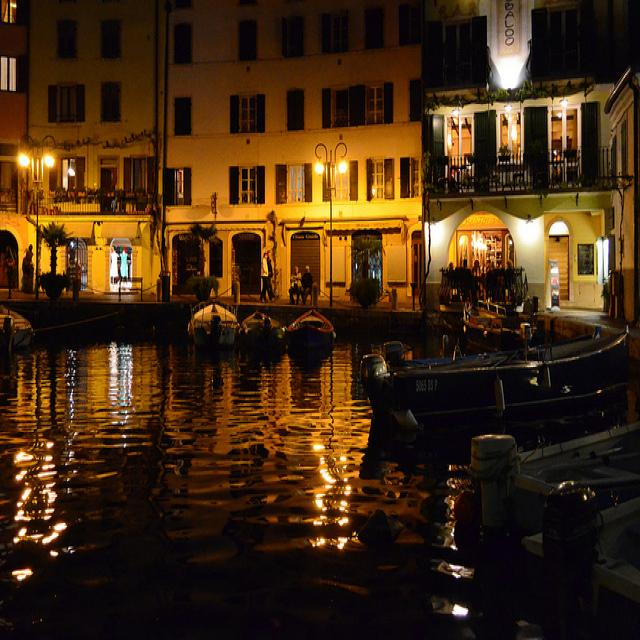Boat: (355, 294, 640, 401), (438, 410, 640, 546), (498, 491, 640, 640), (185, 259, 246, 376), (291, 272, 351, 372), (237, 278, 293, 383), (0, 288, 41, 396)
